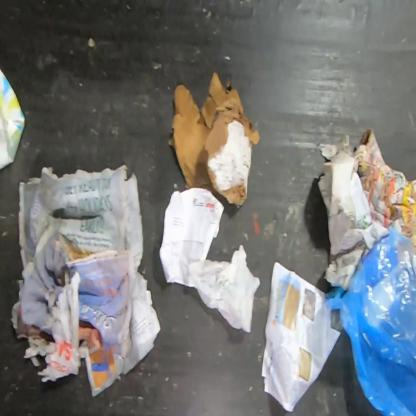cardboard: (167, 71, 261, 210), (317, 147, 375, 256), (0, 68, 26, 172)
soft_plastic: (324, 224, 415, 415), (188, 243, 262, 334)
